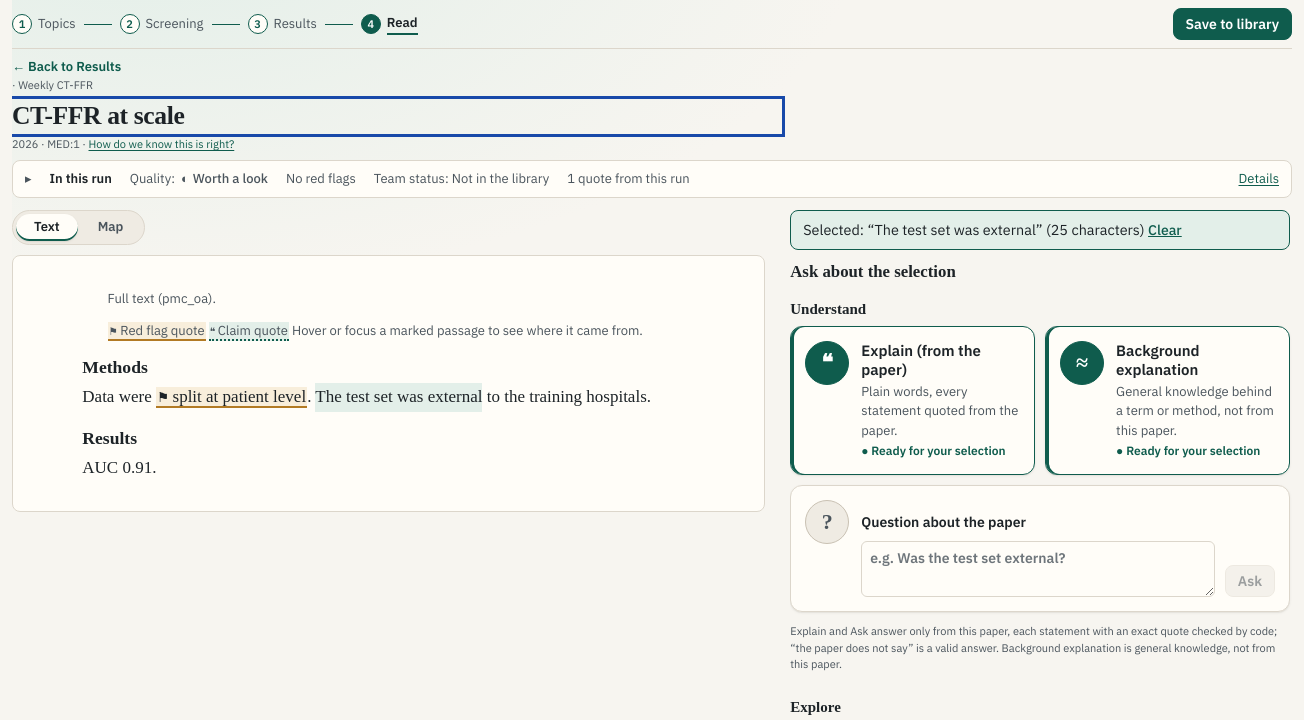
ReaderPage › explains the selection, then saves the answer as a note and offers the library
Expected: the heading "Methods" is shown, x1=82 y1=357 x2=148 y2=377
Expected: the text "Selected: “The test set was external” (25 characters) Clear" is shown, x1=790 y1=210 x2=1290 y2=250
Click the button "Explain (from the paper)": [941, 360] box x1=861 y1=341 x2=1020 y2=380
(page scrolled)
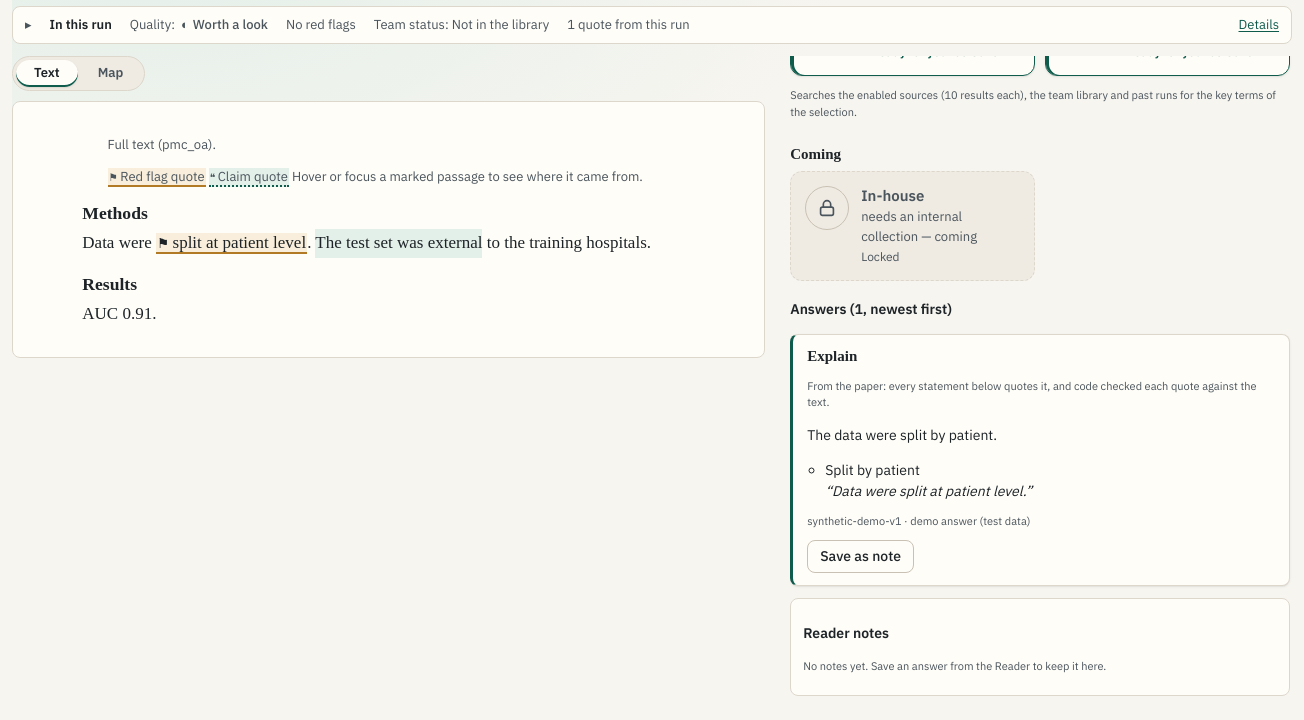
Expected: the text "The data were split by patient." is shown, x1=807 y1=426 x2=997 y2=444
Expected: the text "Data were split at patient level." is shown, x1=832 y1=482 x2=1026 y2=500
Click the button "Save as note": [861, 557] box x1=807 y1=540 x2=914 y2=573
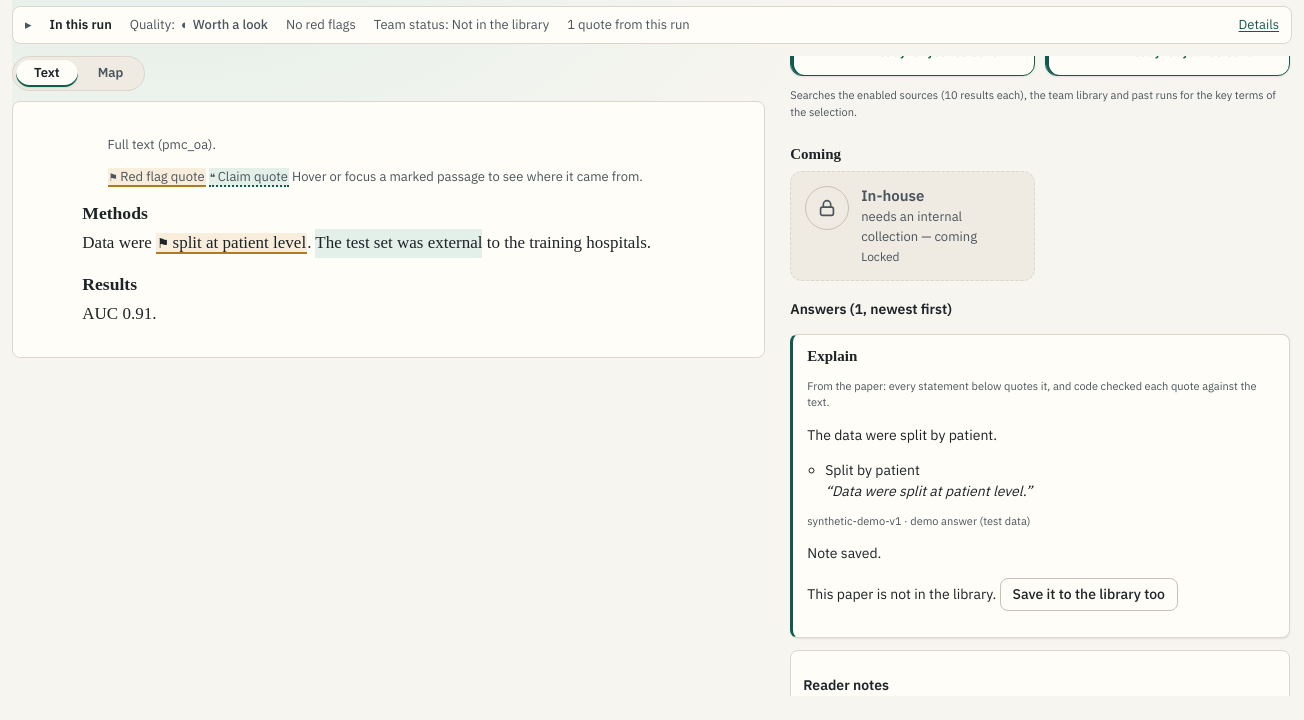
Expected: the text "Note saved." is shown, x1=807 y1=544 x2=881 y2=562
Expected: the button "Save it to the library too" is shown, x1=1000 y1=578 x2=1178 y2=611
